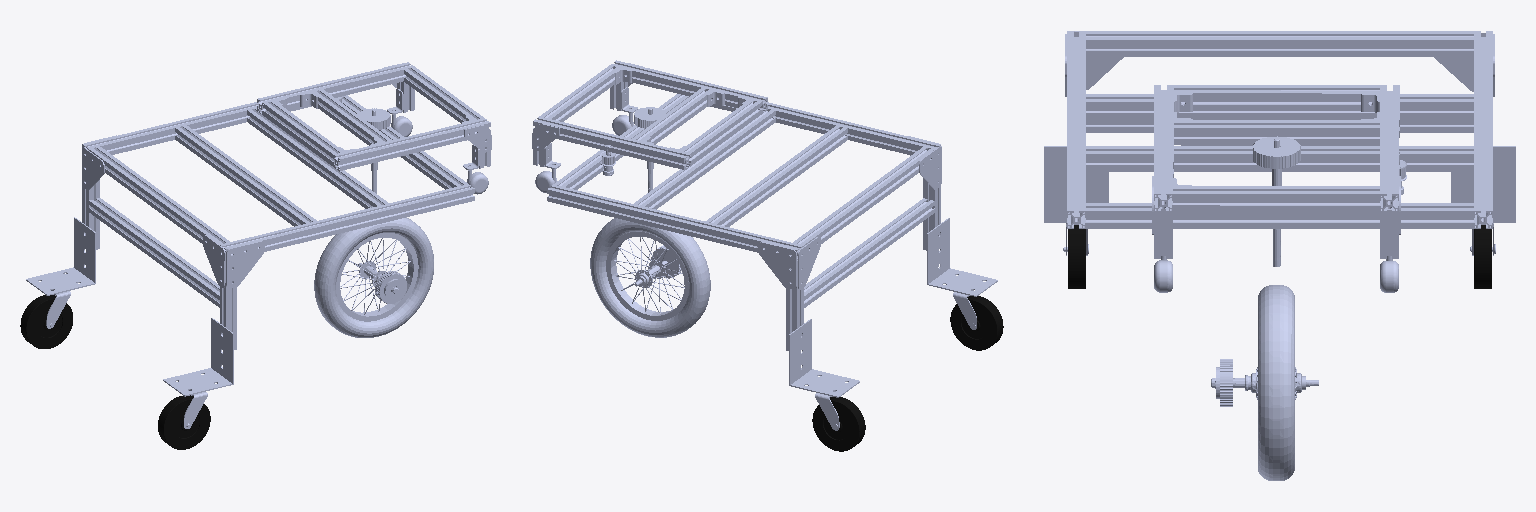
robot.urdf — One_wheel_frame_Assembly_v1:
<?xml version="1.0" encoding="utf-8"?>
<!-- This URDF was automatically created by SolidWorks to URDF Exporter! Originally created by [author] ([email redacted]) 
     Commit Version: 1.6.0-4-g7f85cfe  Build Version: 1.6.7995.38578
     For more information, please see http://wiki.ros.org/sw_urdf_exporter -->
<robot
  name="One_wheel_frame_Assembly_v1">
  <link
    name="chassis_link">
    <inertial>
      <origin
        xyz="-0.36556 0.0049205 -0.07701"
        rpy="0 0 0" />
      <mass
        value="5.0686" />
      <inertia
        ixx="0.034031"
        ixy="9.0833E-08"
        ixz="-0.00017281"
        iyy="0.018983"
        iyz="-9.0884E-08"
        izz="0.050597" />
    </inertial>
    <visual>
      <origin
        xyz="0 0 0"
        rpy="0 0 0" />
      <geometry>
        <mesh
          filename="package://One_wheel_frame_Assembly_v1/meshes/chassis_link.STL" />
      </geometry>
      <material
        name="">
        <color
          rgba="0.79216 0.81961 0.93333 1" />
      </material>
    </visual>
    <collision>
      <origin
        xyz="0 0 0"
        rpy="0 0 0" />
      <geometry>
        <mesh
          filename="package://One_wheel_frame_Assembly_v1/meshes/chassis_link.STL" />
      </geometry>
    </collision>
  </link>
  
  <gazebo reference="chassis_link">  
    <material>Gazebo/Grey</material>
  </gazebo>
  
  <link
    name="chassis_wheel_left">
    <inertial>
      <origin
        xyz="-0.014 1.1102E-16 0"
        rpy="0 0 0" />
      <mass
        value="5.32038" />
      <inertia
        ixx="0.00065681"
        ixy="3.0857E-20"
        ixz="5.0633E-21"
        iyy="0.00034759"
        iyz="-4.0658E-20"
        izz="0.00034759" />
    </inertial>
    <visual>
      <origin
        xyz="0 0 0"
        rpy="0 0 0" />
      <geometry>
        <mesh
          filename="package://One_wheel_frame_Assembly_v1/meshes/chassis_wheel_left.STL" />
      </geometry>
      <material
        name="">
        <color
          rgba="0.1098 0.1098 0.1098 1" />
      </material>
    </visual>
    <collision>
      <origin
        xyz="0 0 0"
        rpy="0 0 0" />
      <geometry>
        <mesh
          filename="package://One_wheel_frame_Assembly_v1/meshes/chassis_wheel_left.STL" />
      </geometry>
    </collision>
  </link>
  
  <gazebo reference="chassis_wheel_left">  
      <mu1 value="2.0"/>
      <mu2 value="1.0"/>
      <kp value="10000000.0" />
      <kd value="1.0" />
    <material>Gazebo/Grey</material>
  </gazebo>
  
  
  <joint
    name="chassis_wheel_left_joint"
    type="continuous">
    <origin
      xyz="-0.6824 0.30592 -0.4201"
      rpy="-2.5894 0 -1.5708" />
    <parent
      link="chassis_link" />
    <child
      link="chassis_wheel_left" />
    <axis
      xyz="1 0 0" />
      <limit effort="2" velocity="4.0"/>
  </joint>
  
  <transmission name="chassis_wheel_left_transmission">
	  <type>transmission_interface/SimpleTransmission</type>
	  <actuator name="chassis_wheel_left_motor">
		  <mechanicalReduction>1</mechanicalReduction>
	  </actuator>
	  <joint name="chassis_wheel_left_joint">
	 <hardwareInterface>hardware_interface/EffortJointInterface</hardwareInterface>
	  </joint>
  </transmission>
  
  
  
  
  <link
    name="chassis_wheel_right">
    <inertial>
      <origin
        xyz="-0.014 2.2204E-16 -2.2204E-16"
        rpy="0 0 0" />
      <mass
        value="5.32038" />
      <inertia
        ixx="0.00065681"
        ixy="-1.6662E-19"
        ixz="1.9574E-19"
        iyy="0.00034759"
        iyz="2.7105E-20"
        izz="0.00034759" />
    </inertial>
    <visual>
      <origin
        xyz="0 0 0"
        rpy="0 0 0" />
      <geometry>
        <mesh
          filename="package://One_wheel_frame_Assembly_v1/meshes/chassis_wheel_right.STL" />
      </geometry>
      <material
        name="">
        <color
          rgba="0.1098 0.1098 0.1098 1" />
      </material>
    </visual>
    <collision>
      <origin
        xyz="0 0 0"
        rpy="0 0 0" />
      <geometry>
        <mesh
          filename="package://One_wheel_frame_Assembly_v1/meshes/chassis_wheel_right.STL" />
      </geometry>
    </collision>
  </link>
  
  <gazebo reference="chassis_wheel_right">
    <mu1 value="2.0"/>
      <mu2 value="1.0"/>
      <kp value="10000000.0" />
      <kd value="1.0" />  
    <material>Gazebo/Grey</material>
  </gazebo>
  
  
  
  <joint
    name="chassis_wheel_right_joint"
    type="continuous">
    <origin
      xyz="-0.6824 -0.32408 -0.4201"
      rpy="-2.2426 0 -1.5708" />
    <parent
      link="chassis_link" />
    <child
      link="chassis_wheel_right" />
    <axis
      xyz="1 0 0" />
      
      <limit effort="2" velocity="4.0"/>
      
  </joint>
  
  
  <transmission name="chassis_wheel_right_transmission">
	  <type>transmission_interface/SimpleTransmission</type>
	  <actuator name="chassis_wheel_right_motor">
		  <mechanicalReduction>1</mechanicalReduction>
	  </actuator>
	  <joint name="chassis_wheel_right_joint">
	 <hardwareInterface>hardware_interface/EffortJointInterface</hardwareInterface>
	  </joint>
  </transmission>
  
  
  
  
    <joint
    name="chassis_to_module"
    type="fixed">
    <origin
      xyz="0 0 0.005"
      rpy="0 0 3.14" />
    <parent
      link="chassis_link" />
    <child
      link="module_base" />
  </joint>
  
  
    <link
    name="module_base">
    <inertial>
      <origin
        xyz="0.031724 -0.12886 -0.039095"
        rpy="0 0 0" />
      <mass
        value="2.1961" />
      <inertia
        ixx="0.0063697"
        ixy="3.3879E-05"
        ixz="-1.3091E-07"
        iyy="0.0035478"
        iyz="-1.1651E-06"
        izz="0.009033" />
    </inertial>
    <visual>
      <origin
        xyz="0 0 0"
        rpy="0 0 0" />
      <geometry>
        <mesh
          filename="package://ROS_Module_Assembly_v7/meshes/base_link.STL" />
      </geometry>
      <material
        name="">
        <color
          rgba="0.79216 0.81961 0.93333 1" />
      </material>
    </visual>
    <collision>
      <origin
        xyz="0 0 0"
        rpy="0 0 0" />
      <geometry>
        <mesh
          filename="package://ROS_Module_Assembly_v7/meshes/base_link.STL" />
      </geometry>
    </collision>
  </link>
  
    <gazebo reference="module_base">  
    <material>Gazebo/Grey</material>
  </gazebo>
  
  
  <link
    name="input_rot_motor">
    <inertial>
      <origin
        xyz="-4.2772E-05 0.032009 7.4354E-05"
        rpy="0 0 0" />
      <mass
        value="0.025091" />
      <inertia
        ixx="7.1785E-06"
        ixy="6.7784E-10"
        ixz="-1.1692E-08"
        iyy="2.3424E-06"
        iyz="-1.1777E-09"
        izz="7.1921E-06" />
    </inertial>
    <visual>
      <origin
        xyz="0 0 0"
        rpy="0 0 0" />
      <geometry>
        <mesh
          filename="package://ROS_Module_Assembly_v7/meshes/input_rot_motor.STL" />
      </geometry>
      <material
        name="">
        <color
          rgba="0.79216 0.81961 0.93333 1" />
      </material>
    </visual>
    <collision>
      <origin
        xyz="0 0 0"
        rpy="0 0 0" />
      <geometry>
        <mesh
          filename="package://ROS_Module_Assembly_v7/meshes/input_rot_motor.STL" />
      </geometry>
    </collision>
  </link>
  
    <gazebo reference="input_rot_motor">  
    <material>Gazebo/Grey</material>
  </gazebo>
  
  
  
  <joint
    name="base_to_input_rot_motor"
    type="continuous">
    <origin
      xyz="-0.00425 -0.18427 -0.009"
      rpy="1.5708 0 -1.5708" />
    <parent
      link="module_base" />
    <child
      link="input_rot_motor" />
    <axis
      xyz="0 1 0" />
  </joint>
  
  <transmission name="base_to_input_rot_motor_transmission">
	  <type>transmission_interface/SimpleTransmission</type>
	  <actuator name="base_to_input_rot_motor_motor">
		  <mechanicalReduction>1</mechanicalReduction>
	  </actuator>
	  <joint name="base_to_input_rot_motor">
	 <hardwareInterface>hardware_interface/EffortJointInterface</hardwareInterface>
	  </joint>
  </transmission>
  
  
  
  <link
    name="input_transl_motor">
    <inertial>
      <origin
        xyz="-1.865E-05 0.047153 -6.6546E-05"
        rpy="0 0 0" />
      <mass
        value="0.032255" />
      <inertia
        ixx="1.5951E-05"
        ixy="1.8513E-09"
        ixz="3.575E-09"
        iyy="2.7304E-06"
        iyz="6.6055E-09"
        izz="1.5963E-05" />
    </inertial>
    <visual>
      <origin
        xyz="0 0 0"
        rpy="0 0 0" />
      <geometry>
        <mesh
          filename="package://ROS_Module_Assembly_v7/meshes/input_transl_motor.STL" />
      </geometry>
      <material
        name="">
        <color
          rgba="0.79216 0.81961 0.93333 1" />
      </material>
    </visual>
    <collision>
      <origin
        xyz="0 0 0"
        rpy="0 0 0" />
      <geometry>
        <mesh
          filename="package://ROS_Module_Assembly_v7/meshes/input_transl_motor.STL" />
      </geometry>
    </collision>
  </link>
  
  <gazebo reference="input_transl_motor">  
    <material>Gazebo/Grey</material>
  </gazebo>
  
  <joint
    name="base_to_transl_input"
    type="continuous">
    <origin
      xyz="0.07615 -0.16897 -0.008"
      rpy="1.5708 0 -1.8542" />
    <parent
      link="module_base" />
    <child
      link="input_transl_motor" />
    <axis
      xyz="0 1 0" />
  </joint>
  
  <transmission name="base_to_input_transl_motor_transmission">
	  <type>transmission_interface/SimpleTransmission</type>
	  <actuator name="base_to_input_transl_motor_motor">
		  <mechanicalReduction>1</mechanicalReduction>
	  </actuator>
	  <joint name="base_to_transl_input">
	 <hardwareInterface>hardware_interface/EffortJointInterface</hardwareInterface>
	  </joint>
  </transmission>
  
  <link
    name="fork">
    <inertial>
      <origin
        xyz="9.71972270756294E-05 0.0198553943634375 -0.176442224634371"
        rpy="0 0 0" />
      <mass
        value="2.19393880104194" />
      <inertia
        ixx="0.00906173079445319"
        ixy="-1.54635659139062E-08"
        ixz="4.26201865444728E-06"
        iyy="0.0114899357916851"
        iyz="2.93350054751845E-05"
        izz="0.00390974131459931" />
    </inertial>
    <visual>
      <origin
        xyz="0 0 0"
        rpy="0 0 0" />
      <geometry>
        <mesh
          filename="package://ROS_Module_Assembly_v7/meshes/fork.STL" />
      </geometry>
      <material
        name="">
        <color
          rgba="0.792156862745098 0.819607843137255 0.933333333333333 1" />
      </material>
    </visual>
    <collision>
      <origin
        xyz="0 0 0"
        rpy="0 0 0" />
      <geometry>
        <mesh
          filename="package://ROS_Module_Assembly_v7/meshes/fork.STL" />
      </geometry>
    </collision>
  </link>
  
  <gazebo reference="fork">  
    <material>Gazebo/Grey</material>
  </gazebo>
  
  
  <joint
    name="base_to_rot_fork"
    type="continuous">
    <origin
      xyz="0 0 0"
      rpy="0 0 0" />
    <parent
      link="module_base" />
    <child
      link="fork" />
    <axis
      xyz="0 0 1" />
      <limit effort="40" velocity="2.0"/>
  </joint>
  
  <transmission name="fork_to_wheel_transmission">
	  <type>transmission_interface/SimpleTransmission</type>
	  <actuator name="fork_to_wheel_motor">
		  <mechanicalReduction>1</mechanicalReduction>
	  </actuator>
	  <joint name="base_to_rot_fork">
	 <hardwareInterface>hardware_interface/EffortJointInterface</hardwareInterface>
	  </joint>
  </transmission>
  
  
  <link
    name="wheel">
    <inertial>
      <origin
        xyz="-0.045512 3.8611E-06 3.1642E-06"
        rpy="0 0 0" />
      <mass
        value="2.0757" />
      <inertia
        ixx="0.0323"
        ixy="-1.5988E-09"
        ixz="9.5857E-08"
        iyy="0.016615"
        iyz="-5.3114E-09"
        izz="0.016615" />
    </inertial>
    <visual>
      <origin
        xyz="0 0 0"
        rpy="0 0 0" />
      <geometry>
        <mesh
          filename="package://ROS_Module_Assembly_v7/meshes/wheel.STL" />
      </geometry>
      <material
        name="">
        <color
          rgba="0.79216 0.81961 0.93333 1" />
      </material>
    </visual>
    <collision>
      <origin
        xyz="0 0 0"
        rpy="0 0 0" />
      <geometry>
        <mesh
          filename="package://ROS_Module_Assembly_v7/meshes/wheel.STL" />
      </geometry>
    </collision>
  </link>
  
  <gazebo reference="wheel">
      <mu1 value="20.0"/>
      <mu2 value="10.0"/>
      <kp value="100000.0" />
      <kd value="1.0" />  
    <material>Gazebo/Grey</material>
  </gazebo>
  
  
  <joint
    name="fork_to_wheel"
    type="continuous">
    <origin
      xyz="0 0.049968 -0.336"
      rpy="-1.6031 0 1.5708" />
    <parent
      link="fork" />
    <child
      link="wheel" />
    <axis
      xyz="1 0 0" />
      <limit effort="60" velocity="5.0"/>
  </joint>
  
   <transmission name="fork_to_wheel_transmission">
	  <type>transmission_interface/SimpleTransmission</type>
	  <actuator name="fork_to_wheel_motor">
		  <mechanicalReduction>1</mechanicalReduction>
	  </actuator>
	  <joint name="fork_to_wheel">
	 <hardwareInterface>hardware_interface/EffortJointInterface</hardwareInterface>
	  </joint>
  </transmission>
  
  
  
  <link
    name="vert_bevel_shaft">
    <inertial>
      <origin
        xyz="-4.11906576242016E-06 0.170664525496025 -2.07212903265419E-05"
        rpy="0 0 0" />
      <mass
        value="0.119268839432703" />
      <inertia
        ixx="0.000123219155791243"
        ixy="-9.10291133470512E-09"
        ixz="2.32362997039993E-09"
        iyy="6.17307007401612E-05"
        iyz="-4.57855855631892E-08"
        izz="0.000123230383261293" />
    </inertial>
    <visual>
      <origin
        xyz="0 0 0"
        rpy="0 0 0" />
      <geometry>
        <mesh
          filename="package://ROS_Module_Assembly_v7/meshes/vert_bevel_shaft.STL" />
      </geometry>
      <material
        name="">
        <color
          rgba="0.792156862745098 0.819607843137255 0.933333333333333 1" />
      </material>
    </visual>
    <collision>
      <origin
        xyz="0 0 0"
        rpy="0 0 0" />
      <geometry>
        <mesh
          filename="package://ROS_Module_Assembly_v7/meshes/vert_bevel_shaft.STL" />
      </geometry>
    </collision>
  </link>
  
  <gazebo reference="vert_bevel_shaft">  
    <material>Gazebo/Grey</material>
  </gazebo>
  
  
  <joint
    name="base_to_rot_bevel_shaft"
    type="continuous">
    <origin
      xyz="0 0 -0.1357"
      rpy="1.5708 0 -0.1391" />
    <parent
      link="module_base" />
    <child
      link="vert_bevel_shaft" />
    <axis
      xyz="0 1 0" />
  </joint>
  
  
          <!-- Gazebo plugin for ROS Control -->
   <gazebo>
    <plugin name="gazebo_ros_control" filename="libgazebo_ros_control.so">
          </plugin>
 	 </gazebo>  
 
  
  
</robot>

--- Render facts (derived) ---
3 views of the same robot in one strip: view 1: azimuth 30°, elevation 25°; view 2: azimuth 150°, elevation 25°; view 3: azimuth 270°, elevation 25° (orthographic).
Robot: One_wheel_frame_Assembly_v1 — 9 links, 8 joints (7 continuous, 1 fixed); root link chassis_link; default pose: every joint at zero.
Visible links, largest first — view 1: chassis_link, module_base, wheel, chassis_wheel_right, chassis_wheel_left, vert_bevel_shaft; view 2: chassis_link, module_base, wheel, chassis_wheel_right, chassis_wheel_left, vert_bevel_shaft; view 3: chassis_link, module_base, wheel, vert_bevel_shaft, chassis_wheel_left, chassis_wheel_right.
Link boxes in pixels (x1,y1,x2,y2): chassis_link: (26,95,474,428); module_base: (257,62,491,194); wheel: (314,217,433,337); chassis_wheel_right: (158,395,210,449); chassis_wheel_left: (20,295,72,348); vert_bevel_shaft: (358,108,390,193); chassis_link: (547,94,997,430); module_base: (532,60,767,192); wheel: (590,218,710,337); chassis_wheel_right: (950,296,1003,350); chassis_wheel_left: (812,397,865,451); vert_bevel_shaft: (634,107,666,192); chassis_link: (1044,31,1515,255); module_base: (1152,85,1400,292); wheel: (1211,285,1318,480); vert_bevel_shaft: (1253,136,1300,266); chassis_wheel_left: (1474,225,1491,288); chassis_wheel_right: (1068,225,1085,288).
Size in the robot's own frame: 0.9452 by 0.73 by 0.5698 metres.
7 mesh visuals loaded from 9 distinct referenced files (7 binary STL); not drawn: 2 (reference not matched to a file when rendering).